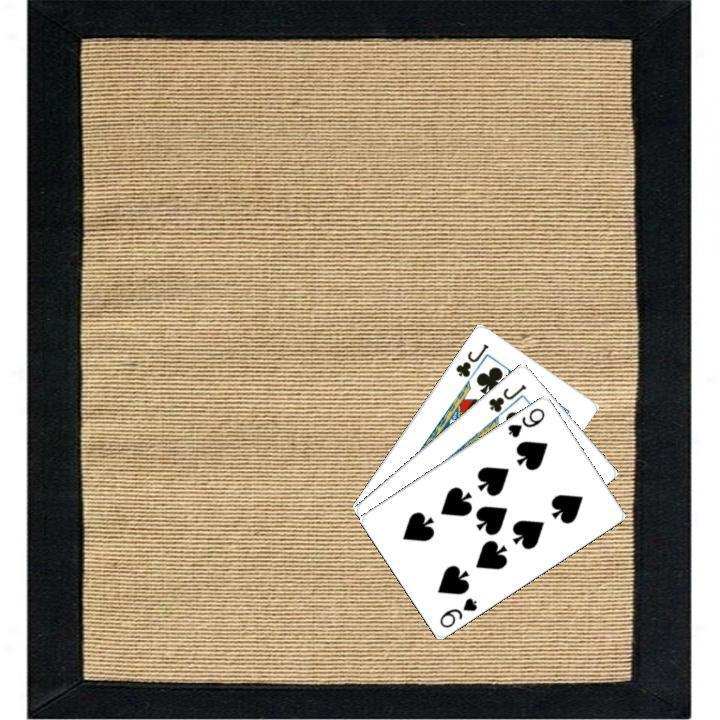9: (435, 593, 479, 630), (503, 403, 547, 439)
J: (451, 339, 491, 379), (484, 379, 528, 414)
